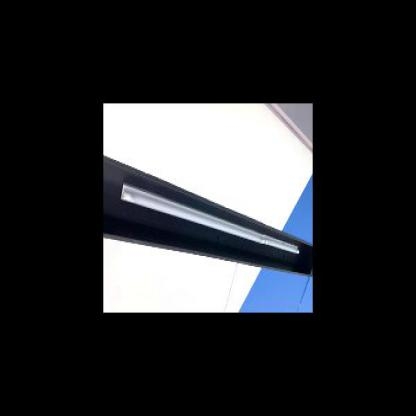light_off: (116, 157, 302, 265)
